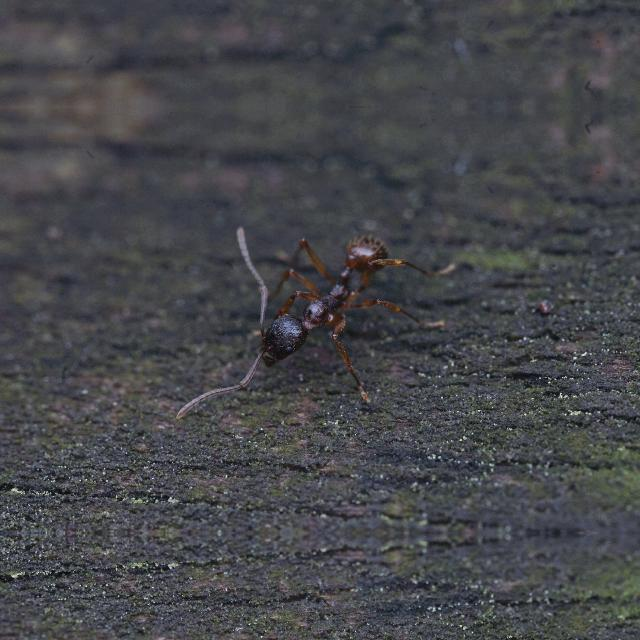Apheanogaster: (222, 220, 422, 382)
